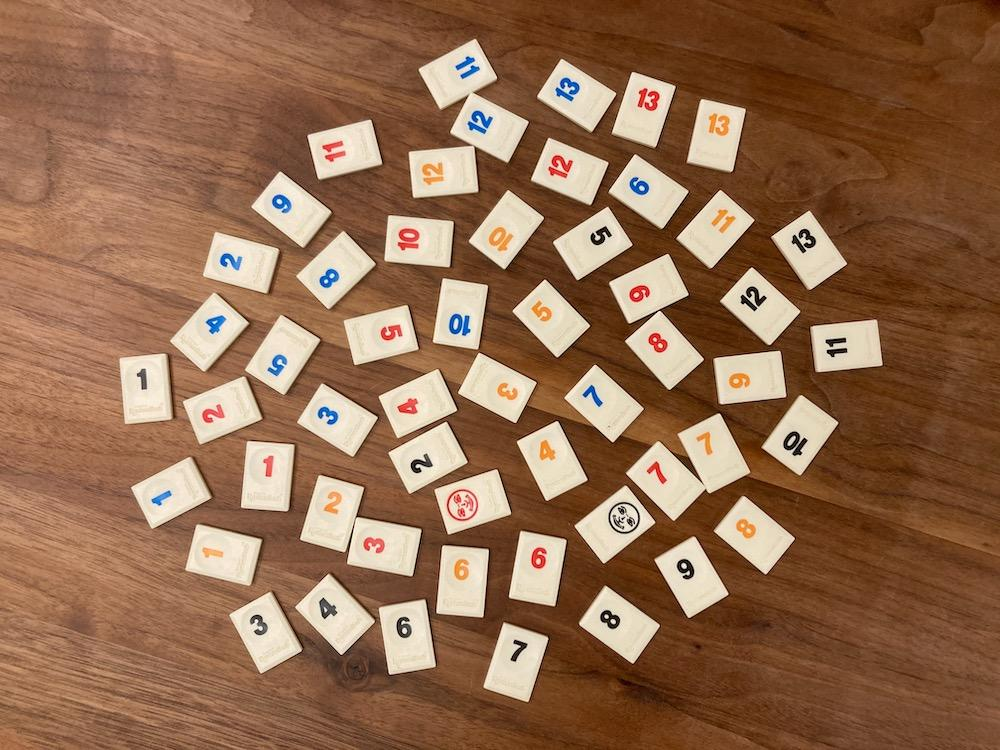black_1: (119, 354, 171, 423)
black_10: (764, 395, 838, 475)
black_11: (811, 320, 883, 373)
black_12: (721, 268, 799, 344)
black_13: (771, 211, 846, 289)
black_2: (390, 422, 467, 492)
black_3: (230, 592, 303, 674)
black_4: (295, 574, 375, 654)
black_5: (553, 207, 633, 279)
black_6: (379, 601, 435, 673)
black_7: (484, 623, 549, 701)
black_8: (582, 586, 660, 662)
black_9: (654, 537, 729, 617)
blue_1: (131, 457, 211, 527)
blue_10: (434, 279, 488, 350)
blue_11: (420, 39, 496, 109)
blue_12: (451, 94, 527, 162)
blue_13: (537, 59, 615, 131)
blue_2: (203, 232, 279, 292)
blue_3: (299, 385, 377, 455)
blue_4: (172, 293, 248, 371)
blue_5: (246, 316, 320, 395)
blue_6: (610, 154, 688, 229)
blue_7: (566, 365, 643, 441)
blue_8: (297, 232, 375, 309)
blue_9: (252, 172, 330, 246)
joker: (574, 486, 654, 562), (434, 471, 512, 533)
orange_1: (186, 525, 262, 586)
orange_10: (469, 191, 543, 268)
orange_11: (678, 191, 754, 268)
orange_12: (409, 146, 479, 197)
orange_13: (688, 100, 746, 172)
orange_2: (302, 475, 363, 553)
orange_3: (459, 354, 537, 422)
orange_4: (518, 422, 588, 500)
orange_5: (514, 279, 590, 357)
orange_6: (436, 545, 488, 617)
orange_7: (678, 414, 750, 492)
orange_8: (715, 496, 795, 572)
orange_9: (713, 352, 787, 404)
red_1: (241, 441, 295, 512)
red_10: (386, 215, 452, 268)
red_11: (309, 119, 383, 180)
red_12: (532, 139, 607, 204)
red_13: (613, 73, 676, 148)
red_2: (185, 377, 262, 443)
red_3: (349, 518, 422, 576)
red_4: (379, 369, 457, 438)
red_5: (345, 305, 418, 365)
red_6: (510, 531, 566, 605)
red_7: (627, 441, 705, 520)
red_8: (627, 312, 703, 389)
red_9: (610, 254, 689, 322)
